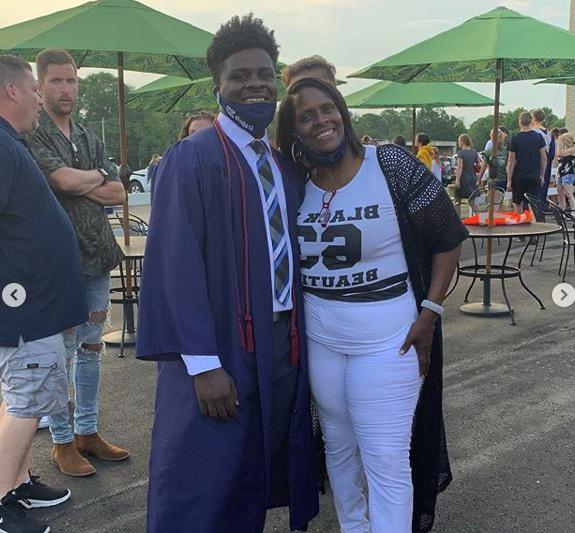mask_weared_incorrect: (221, 61, 283, 122), (294, 96, 341, 161)
without_mask: (10, 75, 41, 128), (44, 70, 80, 114)
